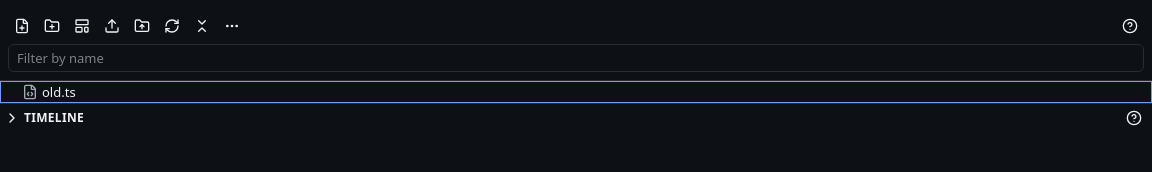
Test: renaming in place — S-171, S-172 › renames with F2, and Esc gives up with nothing sent
Press F2
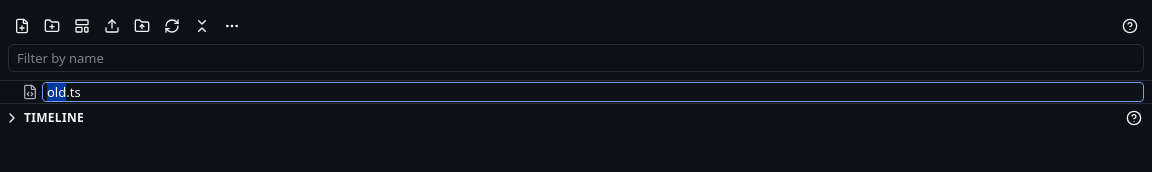
Press Escape
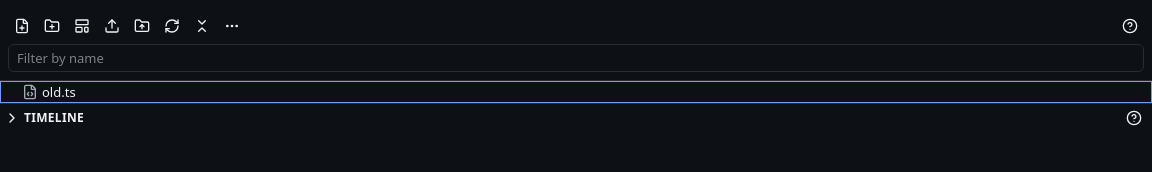
Expected: the field is gone
Press F2
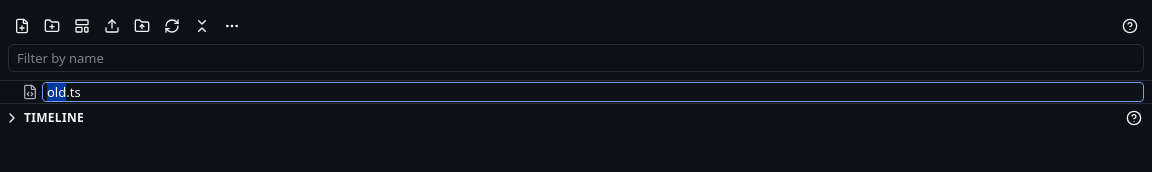
Replace the text in the field with "new.ts": {"x": 593, "y": 92} 42,82 -> 1144,102
Then press Enter
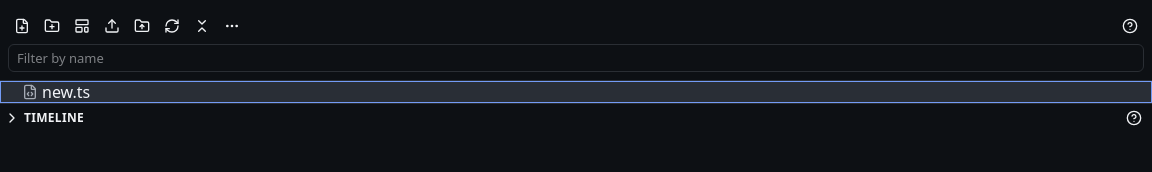
Expected: the list item "new.ts" is shown, 0,81 -> 1151,103
